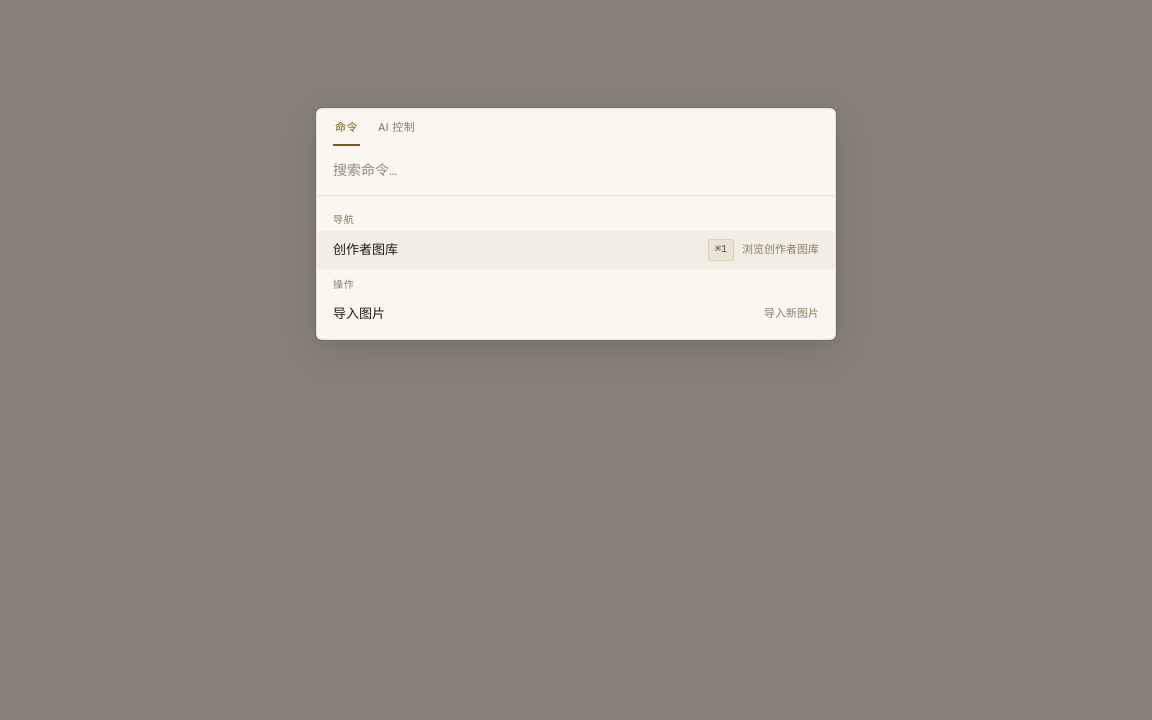
CommandPalette › shows no results message when no matches
Type "xyz123" into the field with placeholder "搜索命令...".
click(576, 170); type("xyz123")  # box [317,146,835,196]
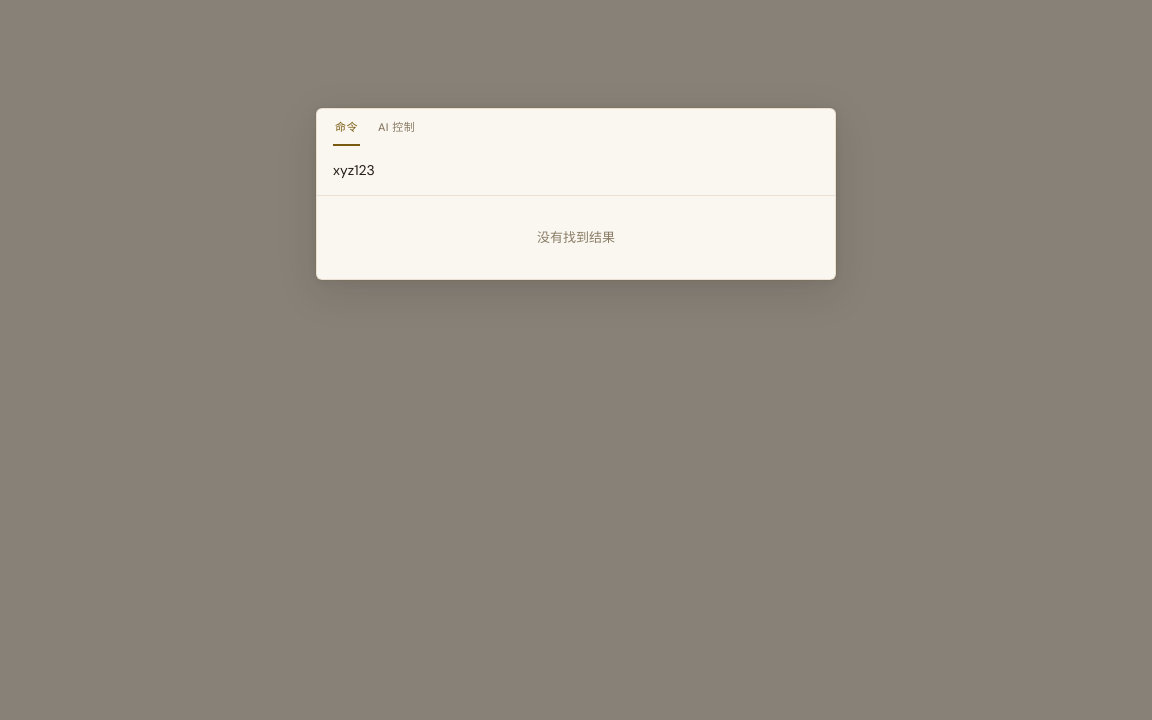
Expected: the text "没有找到结果" is shown, [537,228,615,246]
